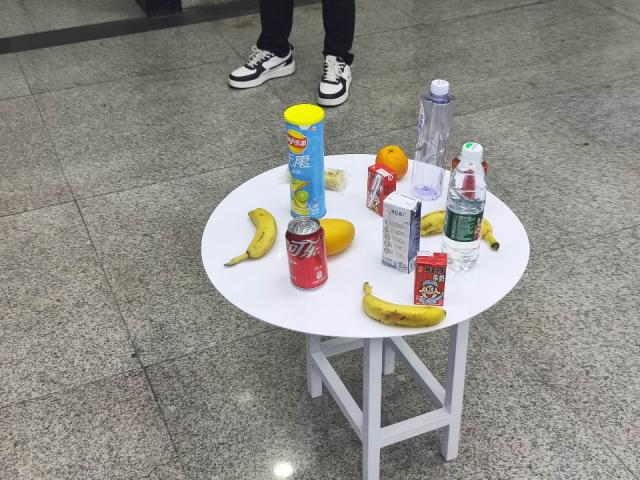Canned_drinks: (284, 215, 332, 294)
drink_box: (381, 192, 422, 283), (417, 253, 440, 304), (365, 170, 387, 203)
